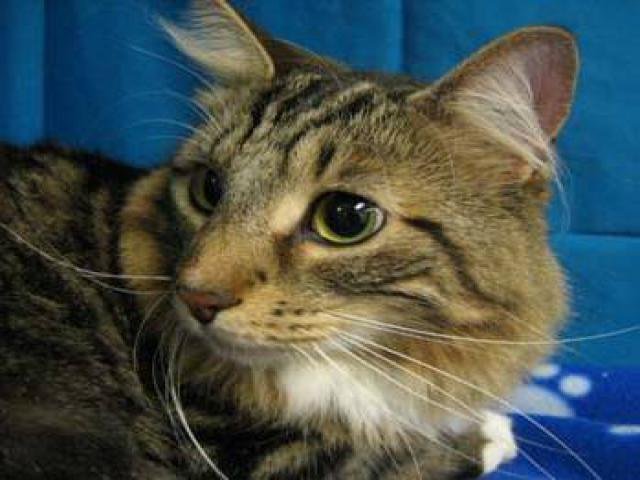cat: (7, 7, 596, 477)
